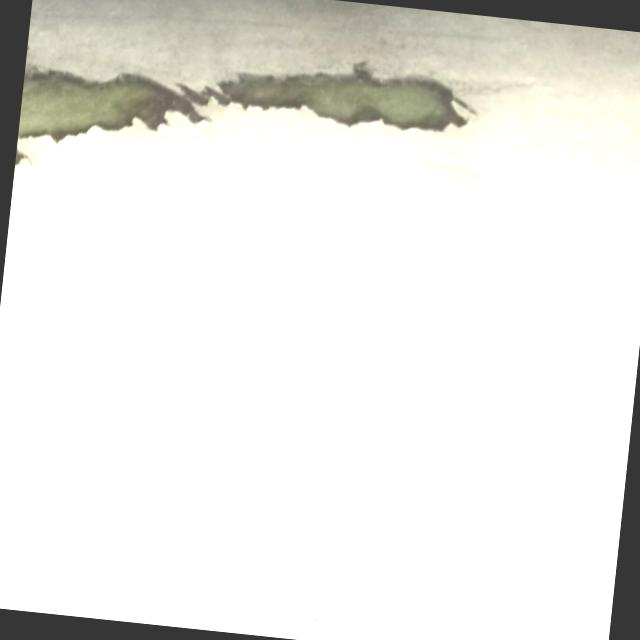surface_peeling: (17, 20, 478, 202)
